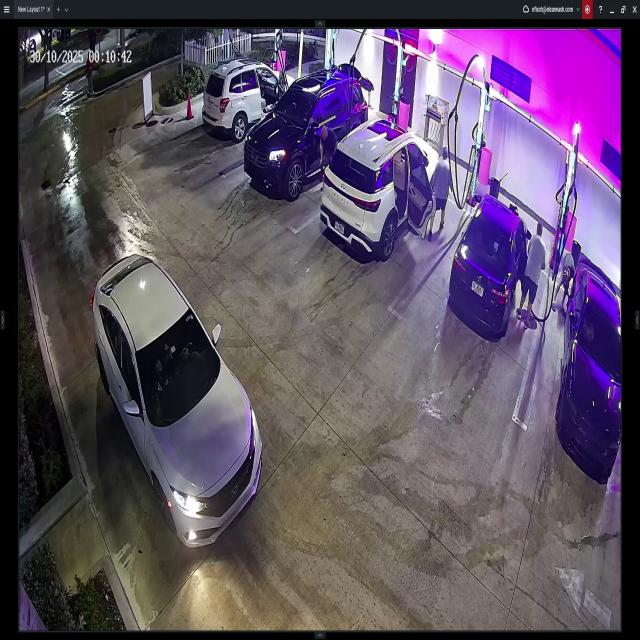Car: (89, 252, 265, 550), (322, 120, 444, 260), (242, 65, 368, 194), (555, 260, 623, 485), (452, 197, 529, 335), (203, 58, 296, 139)
